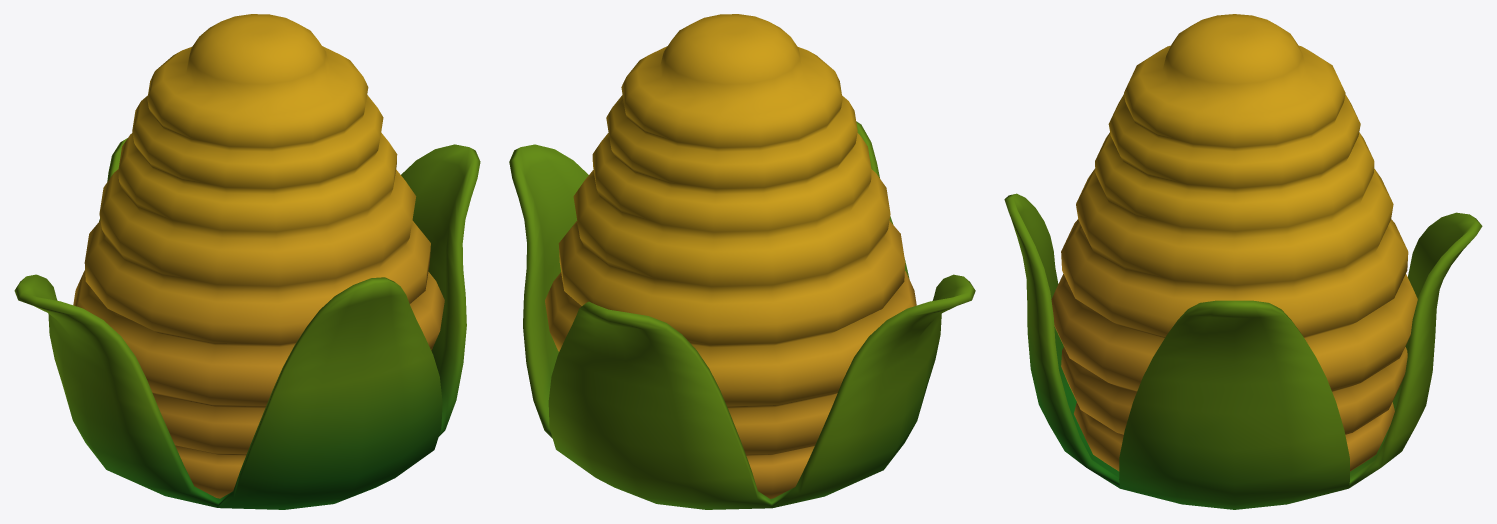
Rendered from Corn.fbx.
3 views of the same model, side by side, from view 1: azimuth 30°, elevation 25°; view 2: azimuth 150°, elevation 25°; view 3: azimuth 270°, elevation 25° (orthographic).
Parts seen in each view (by area): view 1: Corn; view 2: Corn; view 3: Corn.
Boxes of the visible parts, x1,y1,x2,y2 form: Corn: [14, 14, 480, 509]; Corn: [509, 14, 975, 509]; Corn: [1004, 14, 1482, 509].
Bounding box in the file's own units: 30.88 × 28.92 × 28.11.
